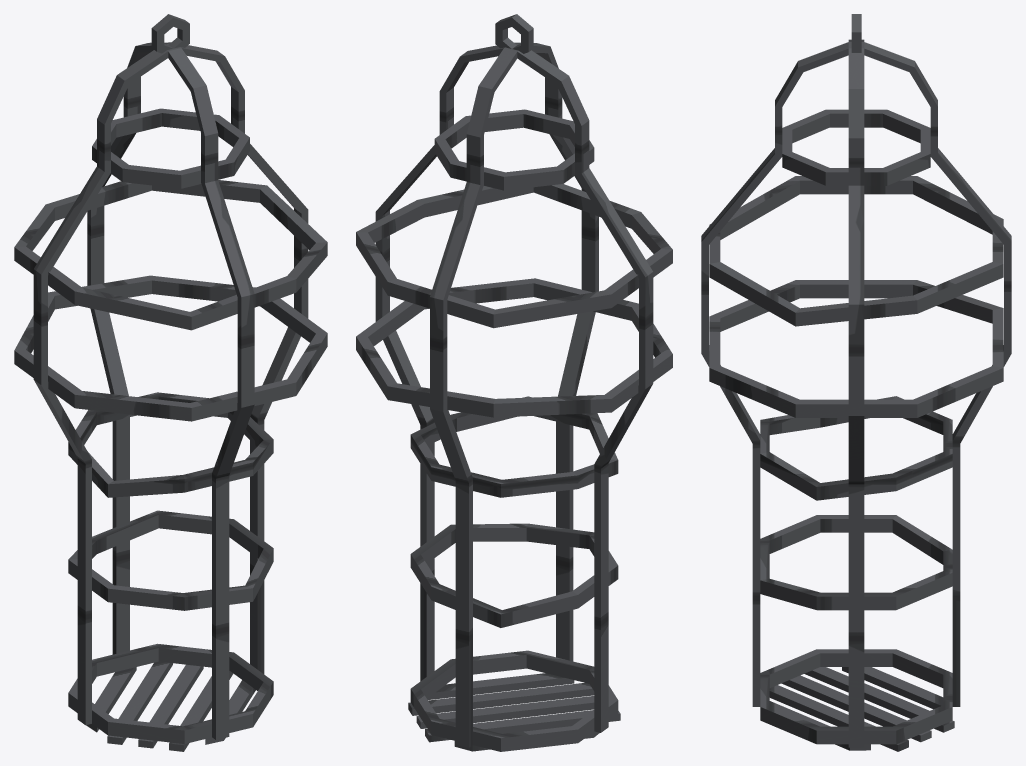
File: castle_cage.gltf
3 views of the same model, side by side, from view 1: azimuth 30°, elevation 25°; view 2: azimuth 150°, elevation 25°; view 3: azimuth 270°, elevation 25° (orthographic).
Visible parts, largest first — view 1: castle_cage; view 2: castle_cage; view 3: castle_cage.
Boxes of the visible parts, x1,y1,x2,y2 form: castle_cage: (14,14,327,751); castle_cage: (356,14,672,751); castle_cage: (701,14,1011,751).
Bounding box in the file's own units: 0.9049 × 2.24 × 0.9049.
Materials: 1 (1 with a texture image).
